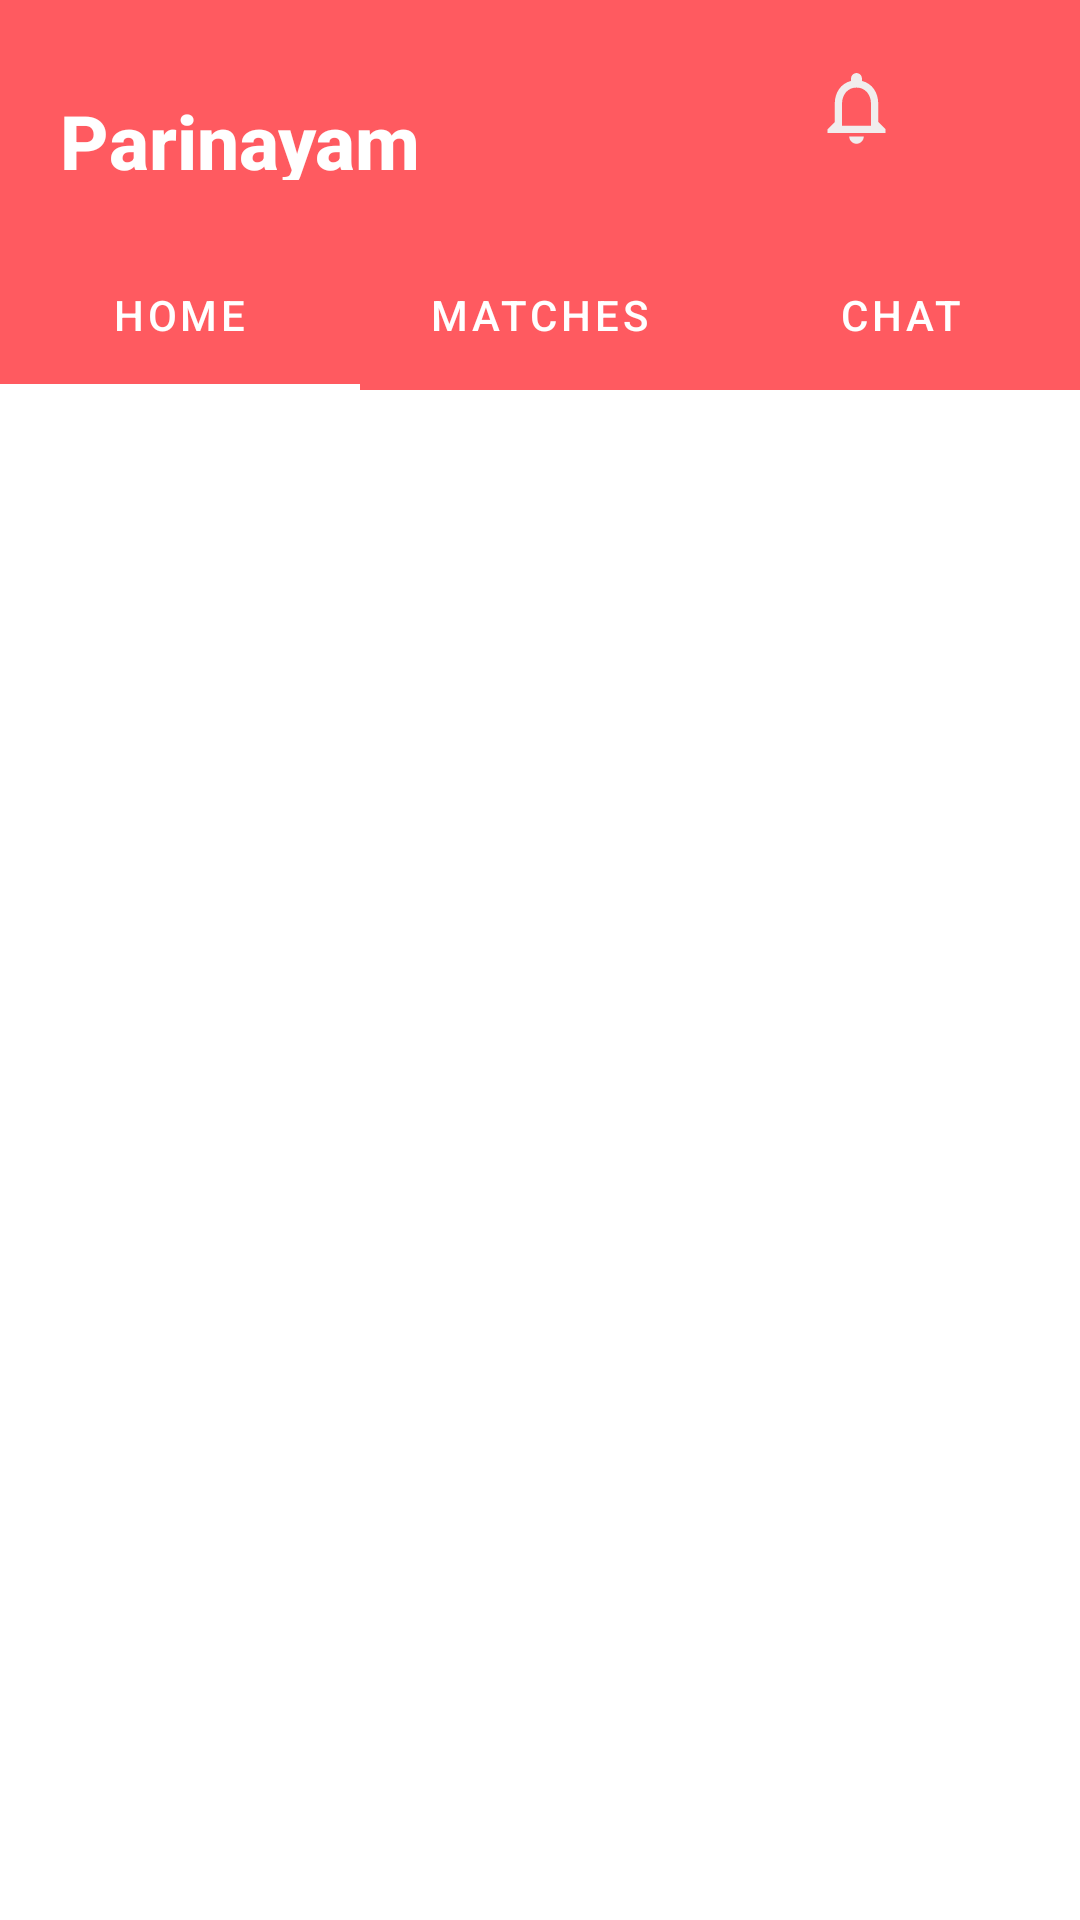

Point at icon controls on the screen. Image size 1080px×1920px, points as [x,y].
bell: [856,108]
